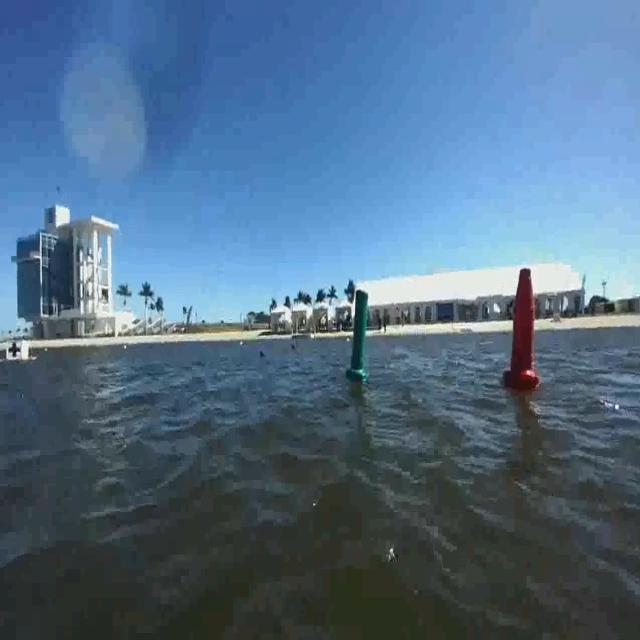green-column-buoy: (347, 290, 372, 383)
red-column-buoy: (505, 270, 541, 393)
